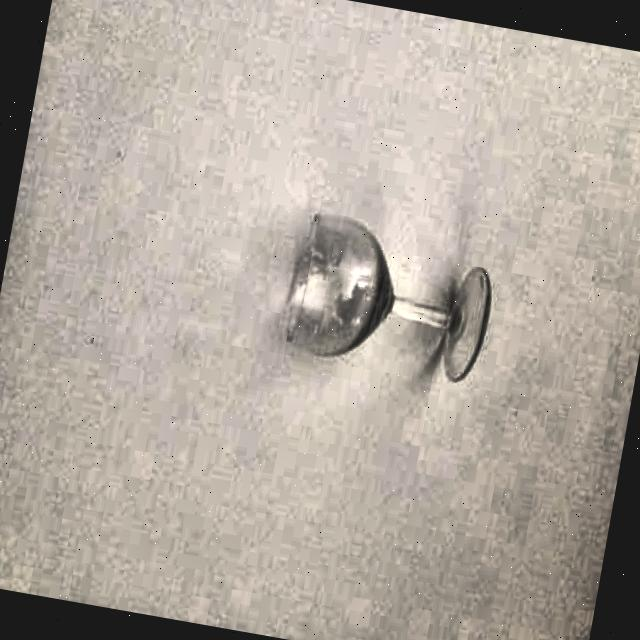glass: (271, 208, 502, 390)
